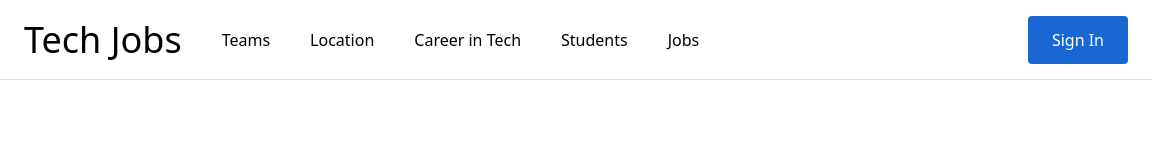
Test: test primary nav › sign in user and show profile image
What coordinates should you click on to do the following:
click the button with test id "sign-in-button"
I would click on:
 (1078, 40)
Its box is [1028, 16, 1128, 64].
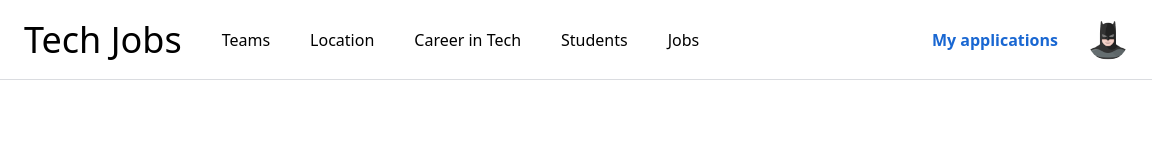
expect the picture with test id "profile-image" is shown: met, box [1088, 20, 1128, 60]
